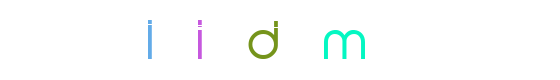D: (240, 0, 320, 80)
I: (225, 0, 305, 80)
L: (164, 0, 244, 80)
M: (304, 0, 384, 80)
